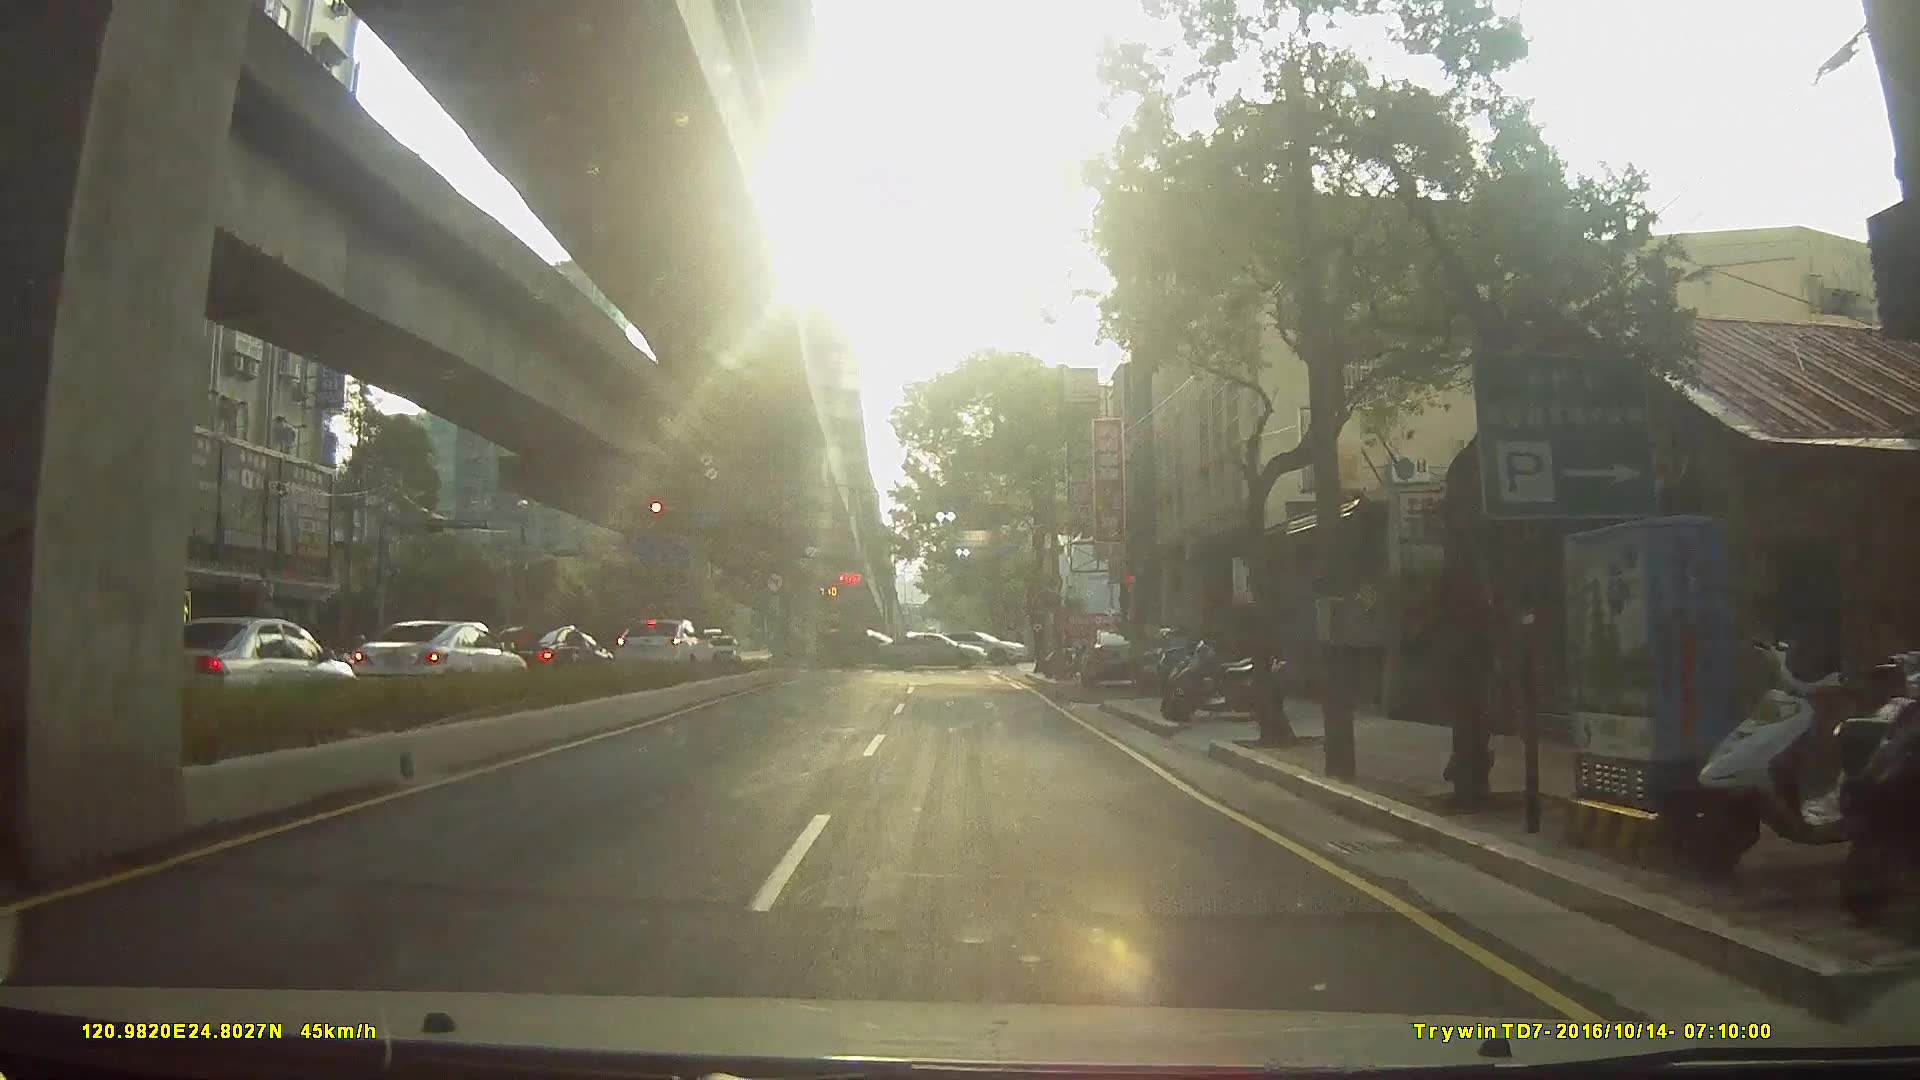vehicle: (112, 615, 357, 720), (344, 615, 531, 700), (477, 620, 612, 684), (608, 615, 717, 673), (1076, 624, 1153, 688), (881, 628, 996, 669), (825, 626, 913, 669), (945, 626, 1033, 665), (702, 630, 740, 665)
